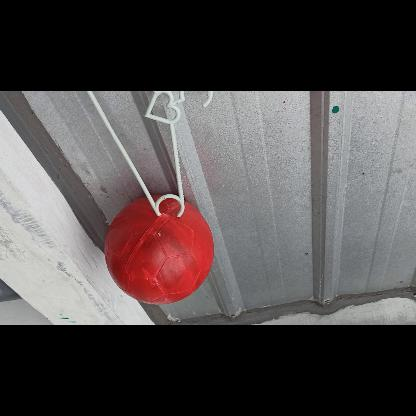red_ball: (106, 196, 214, 304)
